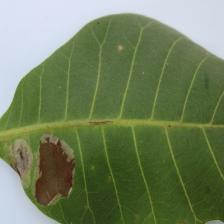leaf miner: (0, 12, 224, 224), (32, 132, 76, 207)
